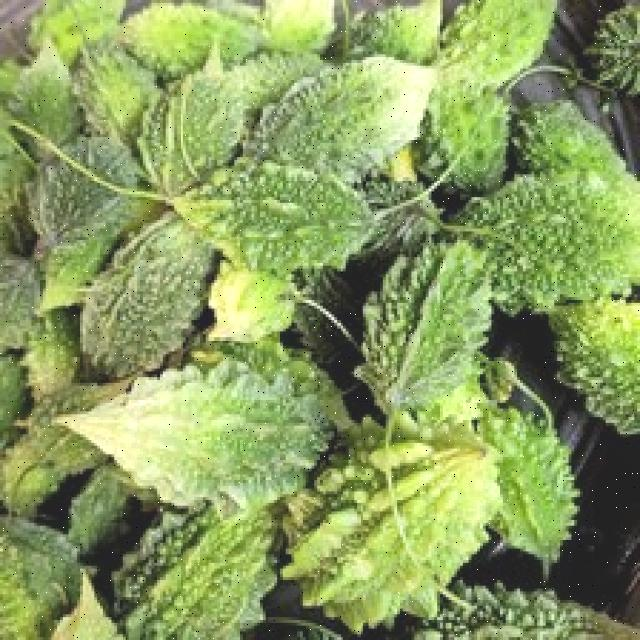Bitter Gourd: (78, 325, 334, 527), (158, 143, 398, 303), (341, 430, 513, 640), (254, 50, 469, 200), (138, 45, 268, 222), (473, 178, 640, 311)
